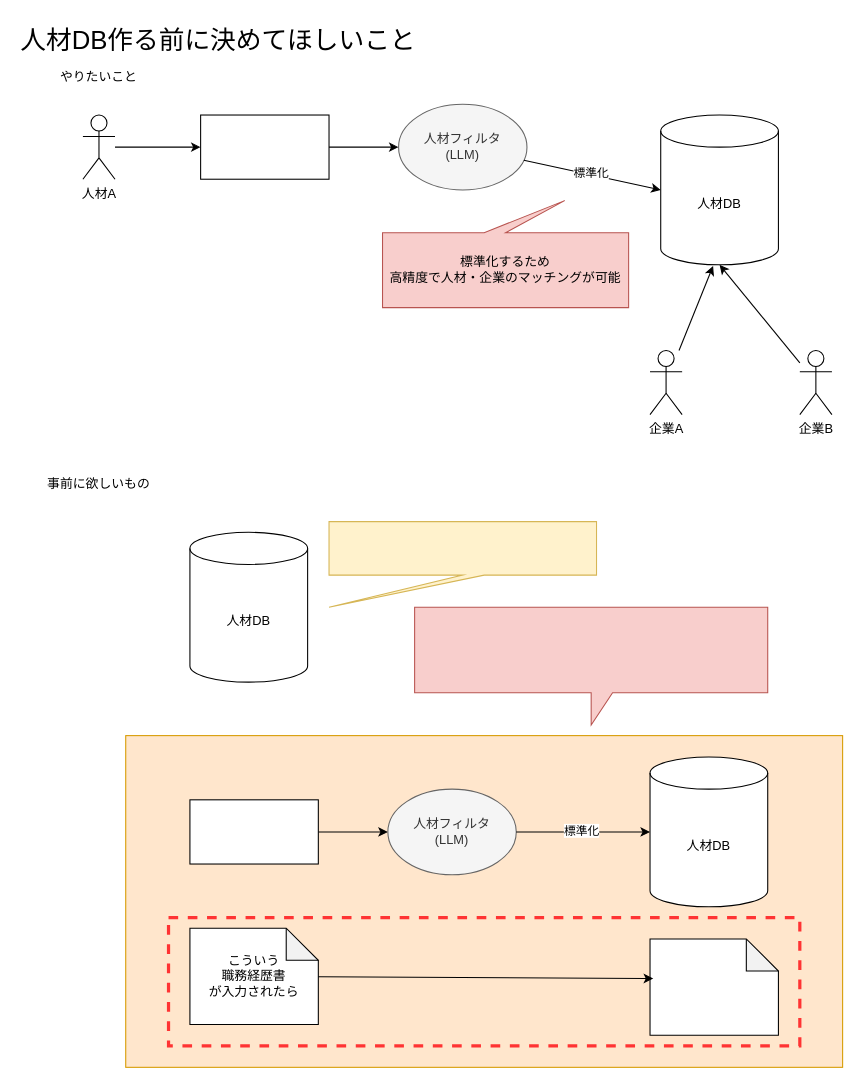
Image size: 861x1086. Some labels were removed from this diagram. The shapes that lost their labels are listed below. From the top down, each one's centre as x and y in pixels, then its label:
[264,146]: 人材Aさんが書いた 職務経歴書
[462,564]: 標準化後の項目を定義 ※家永さんの草案有
[591,665]: 入力例と期待値が欲しい ※プロンプトチューニングにもテストにも使える ※かつ独自AIの学習にも使える あればあるほど良い
[253,831]: 職務経歴書
[713,986]: このように 登録されて欲しい
